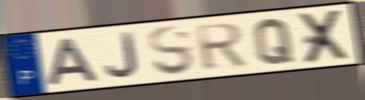A: (44, 36, 102, 88)
J: (104, 31, 141, 80)
Q: (252, 17, 296, 66)
R: (192, 21, 249, 73)
S: (146, 24, 198, 78)
X: (297, 7, 353, 66)
